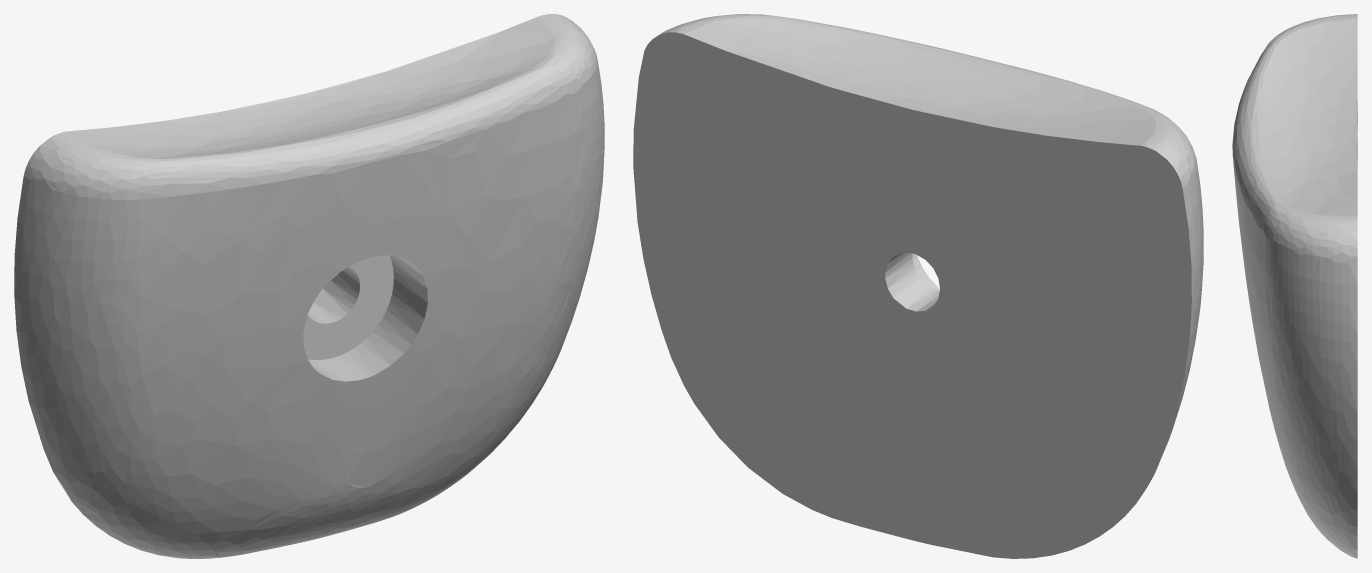
The model's file is Crimp_1.glb.
The picture shows the model from 3 angles, left to right: view 1: azimuth 30°, elevation 25°; view 2: azimuth 150°, elevation 25°; view 3: azimuth 270°, elevation 25°; orthographic projection. The views are drawn at different scales.
Bounding box in the file's own units: 2703222 × 2083164 × 593328.
Materials: 1 (1 with a texture image).
